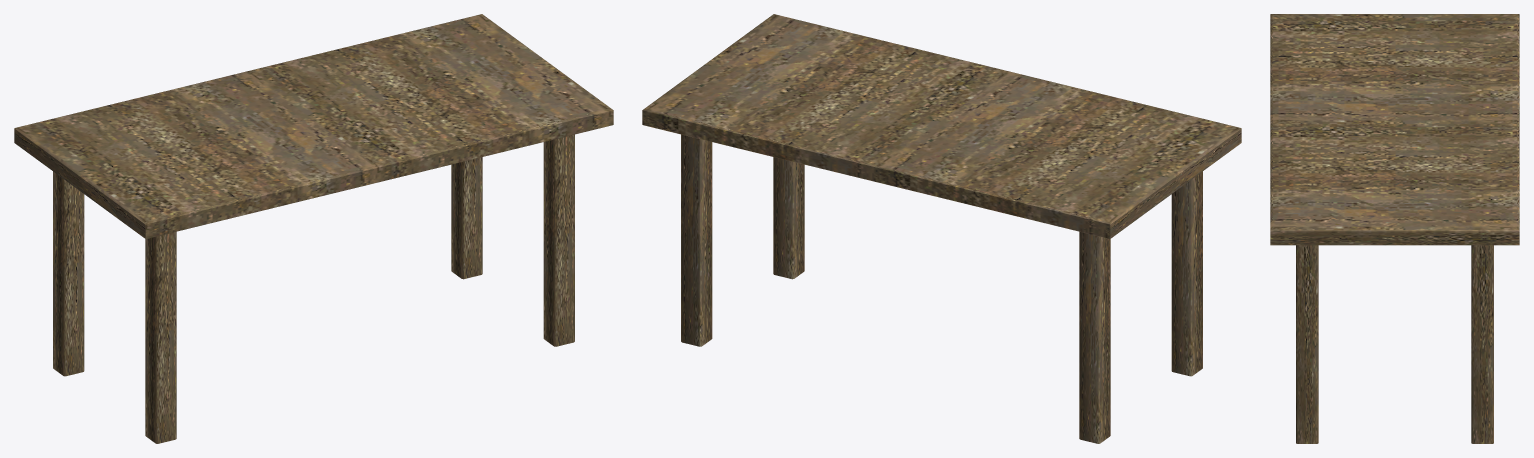
File: table.fbx
3 views of the same model, side by side, from view 1: azimuth 30°, elevation 25°; view 2: azimuth 150°, elevation 25°; view 3: azimuth 270°, elevation 25° (orthographic). The views are drawn at different scales.
Visible parts, largest first — view 1: table; view 2: table; view 3: table.
Part boxes in pixels (bbox=[...]): table: bbox=[14, 14, 613, 443]; table: bbox=[642, 14, 1241, 443]; table: bbox=[1270, 14, 1519, 443].
Size of the model in its own units: 1.81 by 0.8739 by 0.8779.
Materials: 1 (1 with a texture image).
